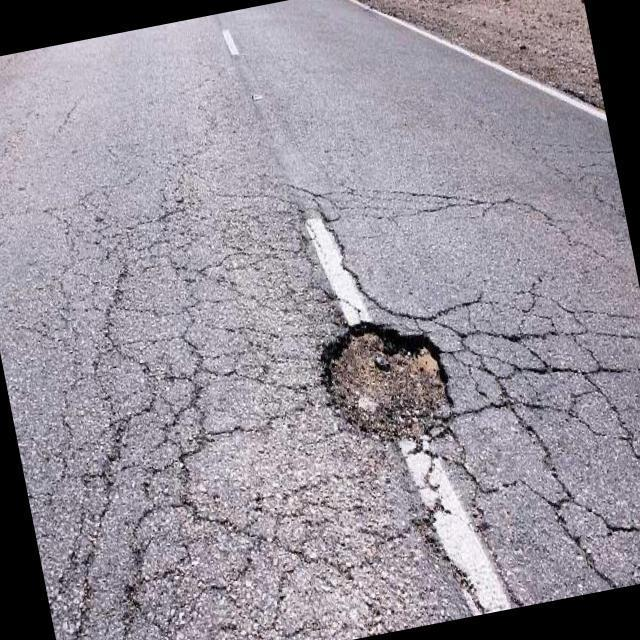Pothole: (322, 322, 452, 445)
